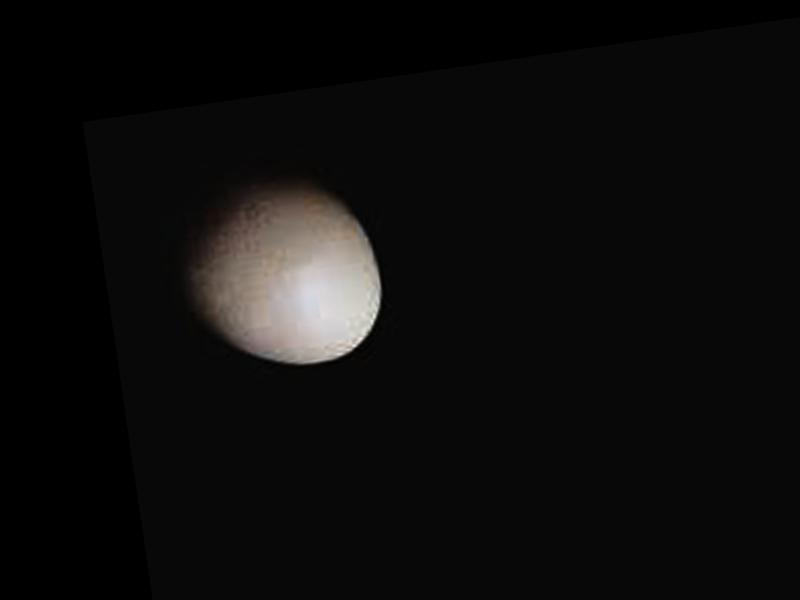Eggs: (160, 158, 391, 384)
